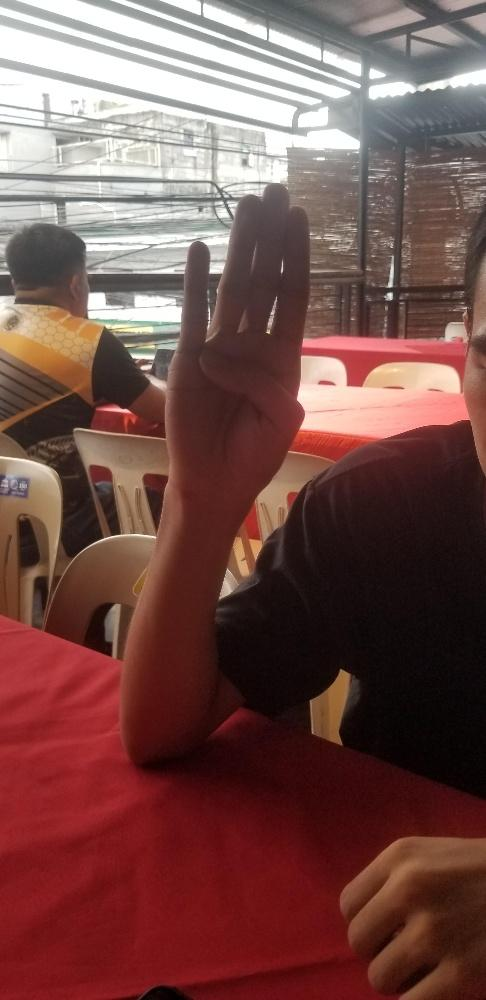b: (160, 175, 316, 503)
